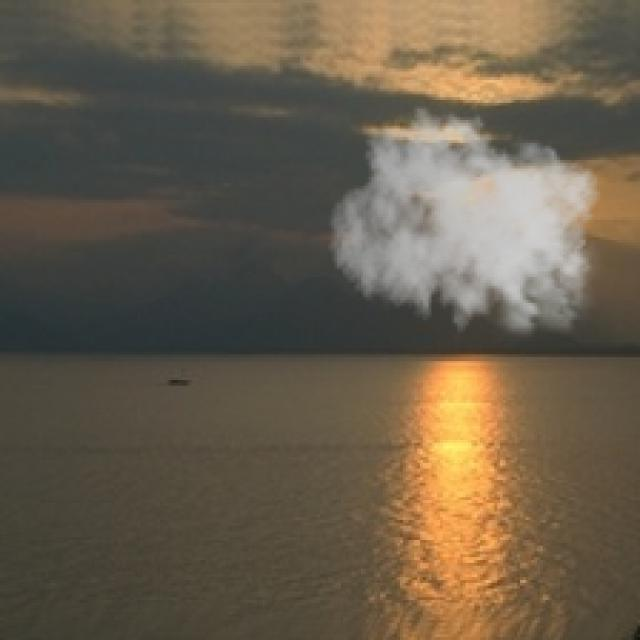Smoke: (328, 105, 608, 348)
